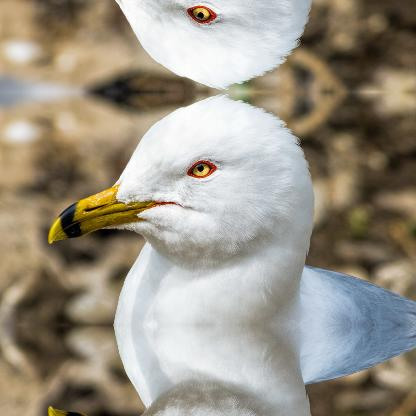Bird: (42, 90, 414, 324), (41, 0, 415, 92), (41, 325, 415, 415)
